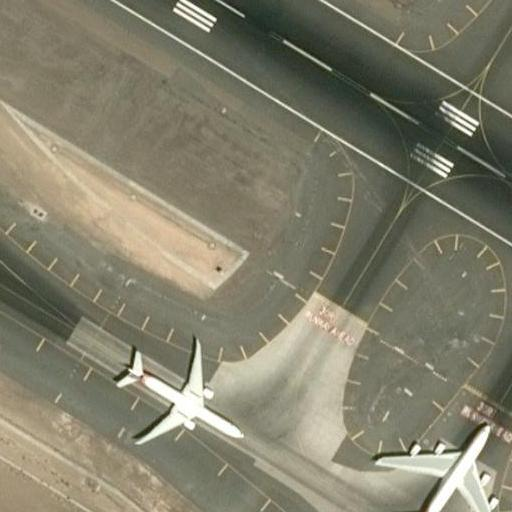Aircraft: (99, 334, 241, 457), (373, 405, 504, 512)
